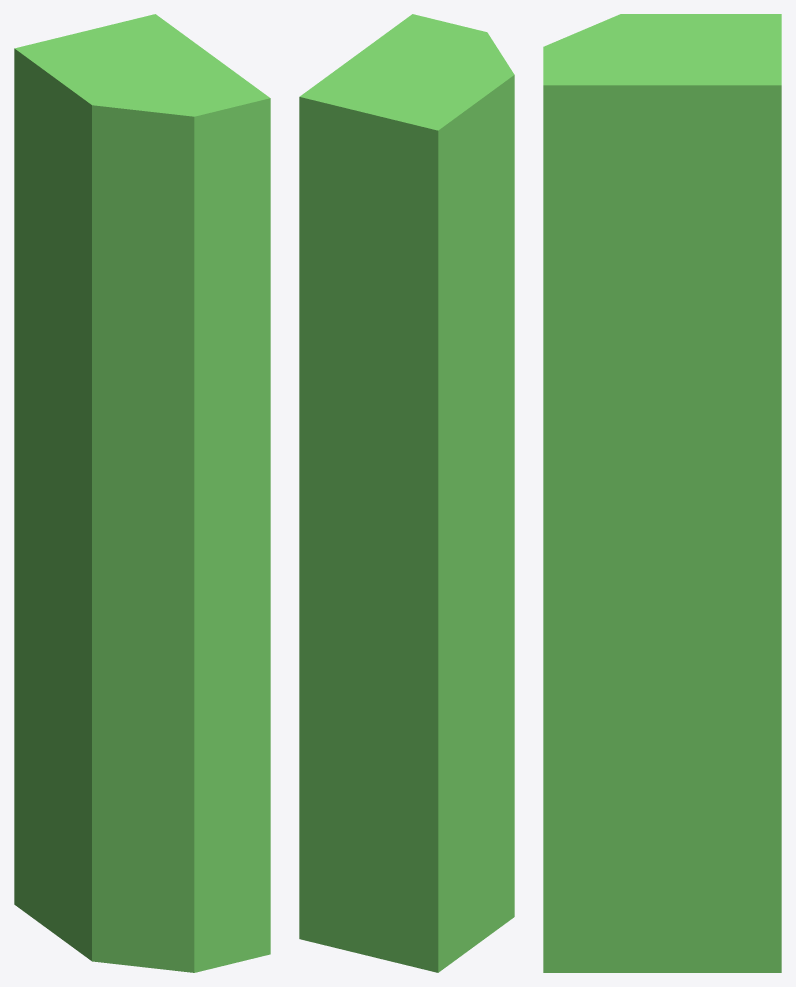
File: sm_Collider18.fbx
3 renders of one model, left to right at view 1: azimuth 30°, elevation 25°; view 2: azimuth 150°, elevation 25°; view 3: azimuth 270°, elevation 25°, orthographic. The views are drawn at different scales.
Visible parts, largest first — view 1: sm_Collider.022; view 2: sm_Collider.022; view 3: sm_Collider.022.
Boxes of the visible parts, x1,y1,x2,y2 form: sm_Collider.022: [14, 14, 270, 972]; sm_Collider.022: [299, 14, 514, 972]; sm_Collider.022: [543, 14, 781, 972].
Bounding box in the file's own units: 860 × 4991 × 1215.
